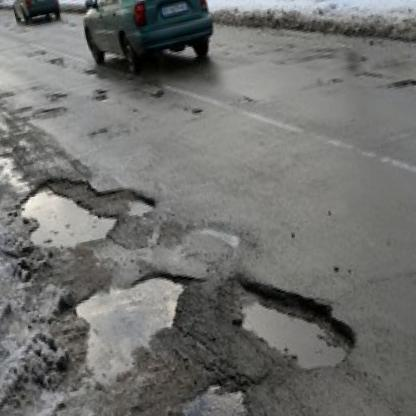pothole: (222, 250, 362, 387), (70, 266, 208, 387), (12, 156, 162, 258), (382, 74, 416, 96)
